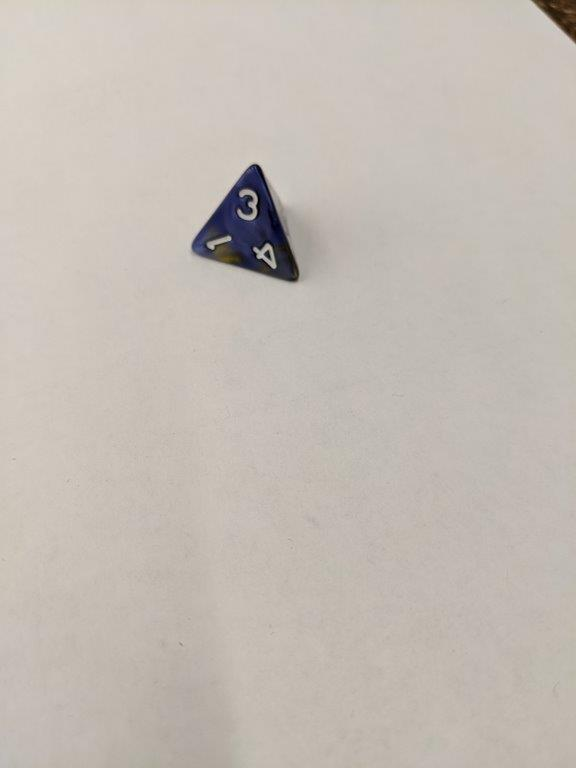d4-3: (185, 159, 302, 286)
